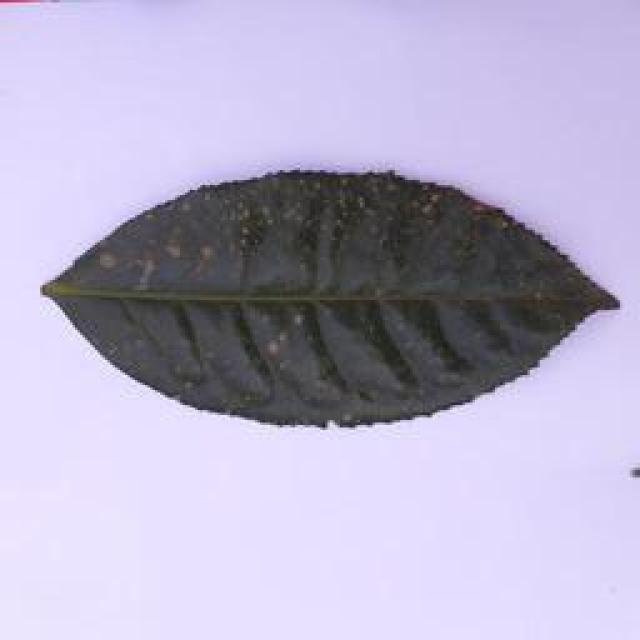Algal Leaf Spot: (33, 162, 620, 443)
